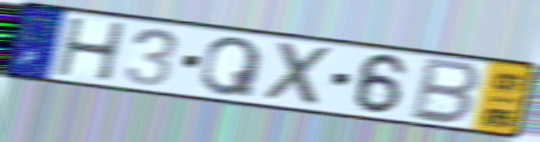3: (123, 26, 180, 87)
6: (351, 51, 411, 117)
B: (406, 55, 485, 128)
H: (54, 16, 129, 84)
Q: (198, 35, 266, 100)
X: (262, 39, 339, 109)
